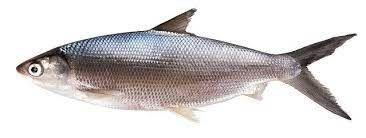Bangus: (15, 8, 358, 123)
